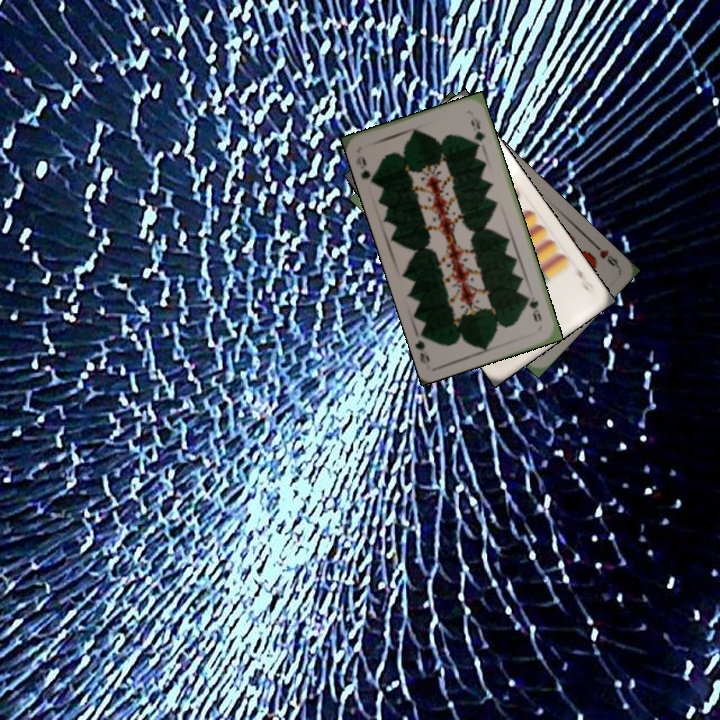E9: (571, 260, 598, 296)
G9: (352, 151, 377, 186), (523, 291, 544, 324)
H9: (588, 238, 622, 269)
